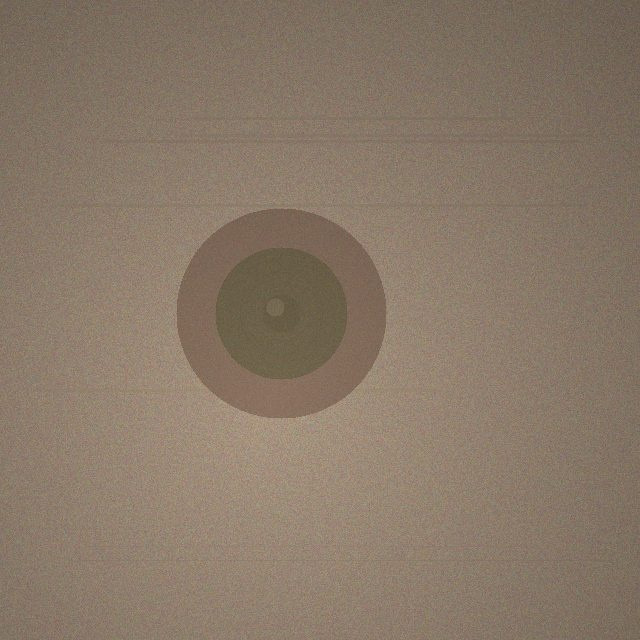good: (176, 208, 386, 418)
